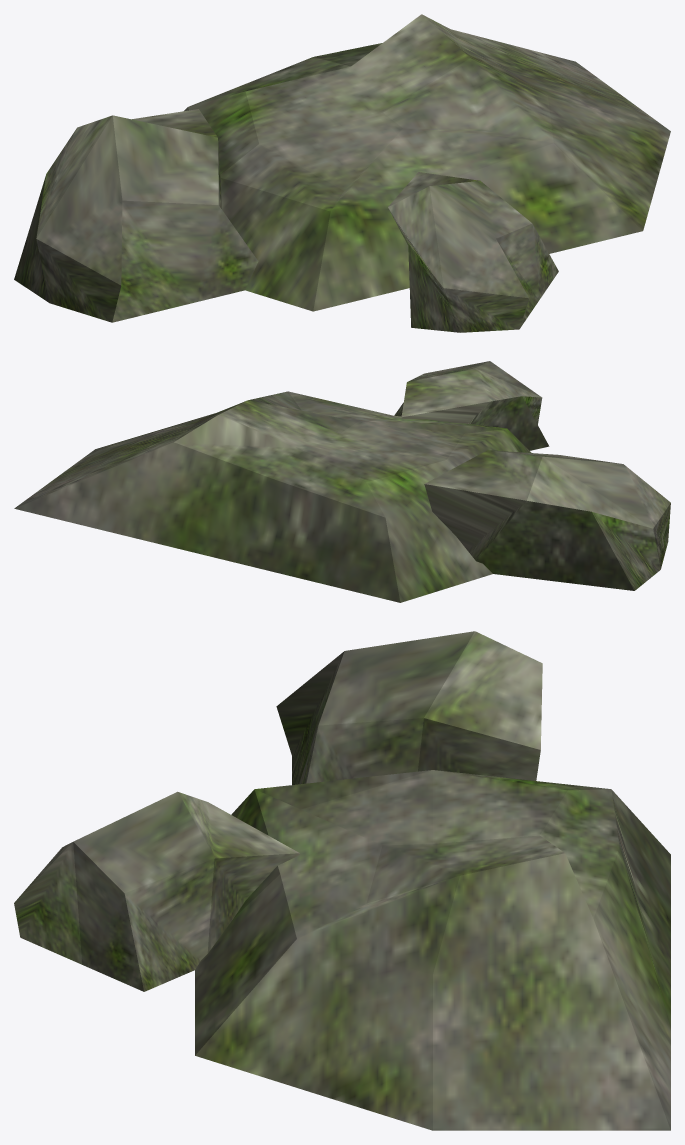
The model's file is a_wujian_shitou2.fbx.
3 views of the same model, one above another, from view 1: azimuth 30°, elevation 25°; view 2: azimuth 150°, elevation 25°; view 3: azimuth 270°, elevation 25° (orthographic). The views are drawn at different scales.
Visible parts, largest first — view 1: a_wujian_shitou2; view 2: a_wujian_shitou2; view 3: a_wujian_shitou2.
Boxes of the visible parts, x1,y1,x2,y2 form: a_wujian_shitou2: (14,14,670,332); a_wujian_shitou2: (14,361,670,602); a_wujian_shitou2: (14,631,670,1130).
Bounding box in the file's own units: 1.95 × 0.3931 × 1.38.
